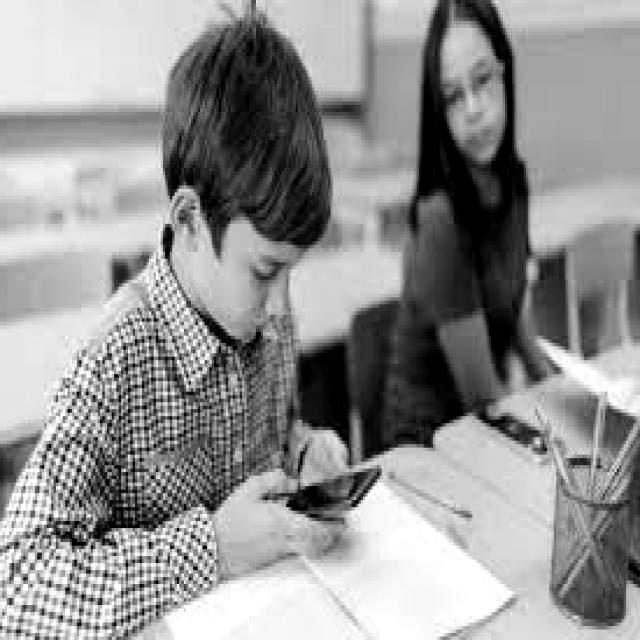phone: (286, 462, 384, 518)
